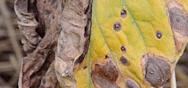Tomato Early blight leaf: (21, 0, 188, 88)
